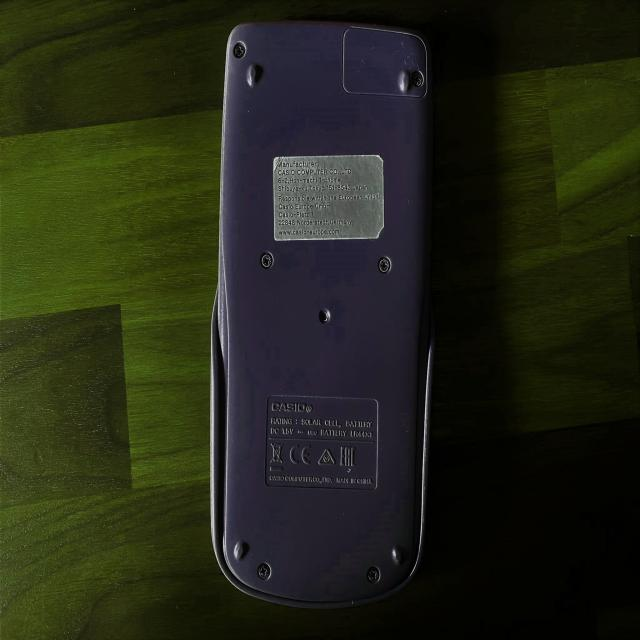PhillipsScrewHead: (257, 563, 270, 580), (367, 567, 380, 584), (412, 70, 424, 88), (232, 44, 247, 58), (378, 258, 391, 274), (261, 253, 272, 268)
